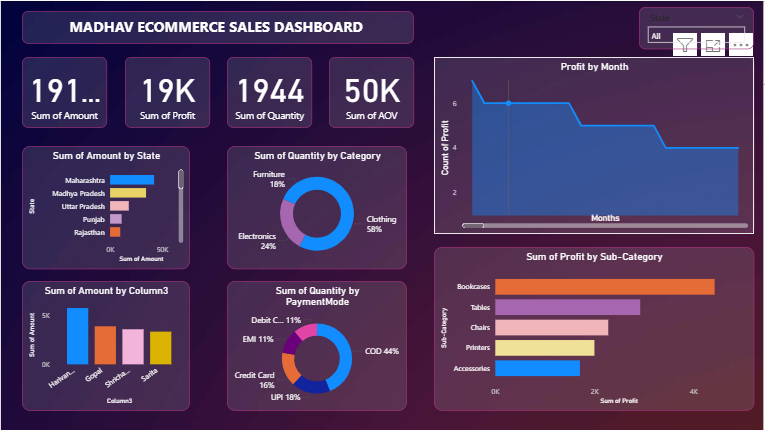

What the dashboard file says about the page in this screenshot:
{"tool":"powerbi","page":{"name":"Page 1","canvas":[1280,720],"ordinal":0},"visuals":[{"type":"textbox","box":[35.3,16.8,658.5,55.4],"z":0},{"type":"stackedAreaChart","title":" Profit by Month","fields":{"Y":["CountNonNull(Details.Profit)"],"Category":["Orders.Column2"]},"box":[727.3,94.1,537.5,297.3],"z":1000},{"type":"barChart","fields":{"Category":["Details.Sub-Category"],"Y":["Sum(Details.Profit)"]},"box":[727.3,413.2,537.5,275.5],"z":2000},{"type":"donutChart","fields":{"Category":["Details.Category"],"Y":["Sum(Details.Quantity)"]},"box":[379.6,243.6,302.4,206.6],"z":3000},{"type":"donutChart","fields":{"Y":["Sum(Details.Quantity)"],"Category":["Details.PaymentMode"]},"box":[379.6,470.3,302.4,218.4],"z":4000},{"type":"card","fields":{"Values":["Sum(Details.Amount)"]},"box":[35.3,94.1,142.8,119.3],"z":5000},{"type":"card","fields":{"Values":["Sum(Details.Profit)"]},"box":[208.3,94.1,142.8,119.3],"z":6000},{"type":"card","fields":{"Values":["Sum(Details.Quantity)"]},"box":[379.6,94.1,142.8,119.3],"z":7000},{"type":"card","fields":{"Values":["Sum(Details.AOV)"]},"box":[551,94.1,142.8,119.3],"z":8000},{"type":"barChart","fields":{"Y":["Sum(Details.Amount)"],"Category":["Orders.Column4"]},"box":[35.3,243.6,282.2,206.6],"z":9000},{"type":"columnChart","fields":{"Category":["Orders.Column3"],"Y":["Sum(Details.Amount)"]},"box":[35,470,282,218],"z":10000},{"type":"slicer","fields":{"Values":["Orders.Column4"]},"box":[1071.7,10.1,193.2,70.6],"z":11000}]}

Visuals, with their boxes in screenshot pixels (x1, y1, x2, y2), scaled from the page's 1280x720 canvas onto the 765x430 screenshot:
textbox: <bbox>21, 10, 415, 43</bbox>
" Profit by Month" stackedAreaChart: <bbox>435, 56, 756, 234</bbox>
barChart - Details.Sub-Category x Sum(Details.Profit): <bbox>435, 247, 756, 411</bbox>
donutChart - Details.Category x Sum(Details.Quantity): <bbox>227, 145, 408, 269</bbox>
donutChart - Sum(Details.Quantity) x Details.PaymentMode: <bbox>227, 281, 408, 411</bbox>
card - Sum(Details.Amount): <bbox>21, 56, 106, 127</bbox>
card - Sum(Details.Profit): <bbox>124, 56, 210, 127</bbox>
card - Sum(Details.Quantity): <bbox>227, 56, 312, 127</bbox>
card - Sum(Details.AOV): <bbox>329, 56, 415, 127</bbox>
barChart - Sum(Details.Amount) x Orders.Column4: <bbox>21, 145, 190, 269</bbox>
columnChart - Orders.Column3 x Sum(Details.Amount): <bbox>21, 281, 189, 411</bbox>
slicer - Orders.Column4: <bbox>641, 6, 756, 48</bbox>
